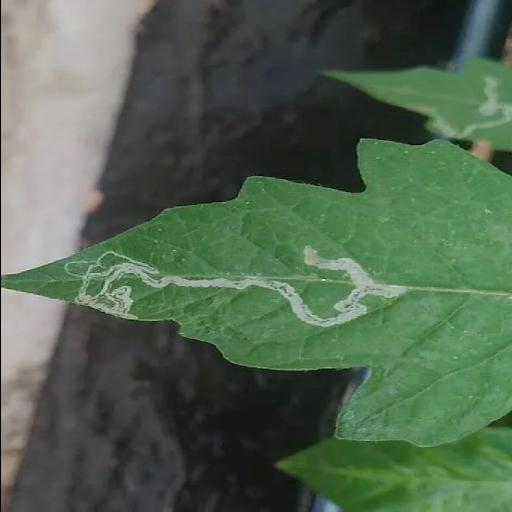disease_tomato: (0, 140, 512, 448)
